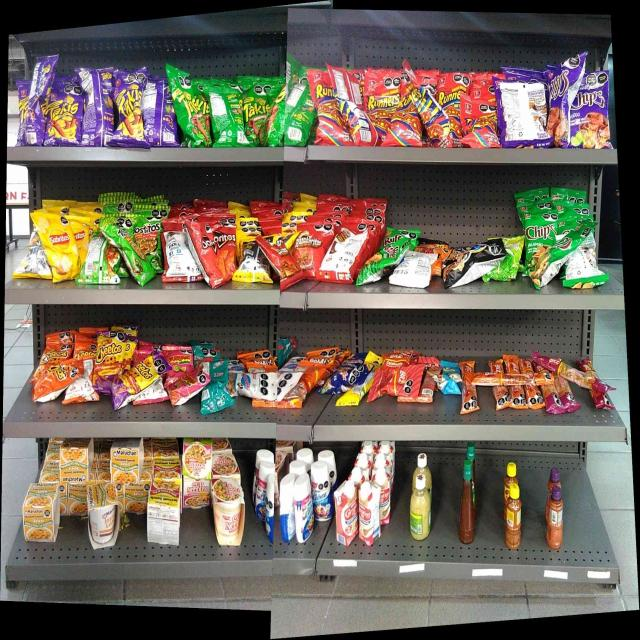bitzEnchilado90: (374, 367, 420, 395)
bitzEnchilado95: (492, 389, 544, 410), (466, 374, 554, 386), (488, 355, 532, 371), (461, 391, 479, 412)
bitzHabanero: (582, 374, 614, 400), (547, 388, 578, 412)
bokadosCacahuates: (337, 368, 366, 384), (319, 376, 336, 396)
botaneraChilito: (506, 483, 520, 547)
cheetosFlaminHot: (96, 333, 123, 392), (125, 362, 158, 389)
cheetosOriginal: (33, 368, 69, 394), (44, 339, 73, 363)
chipsJalapeno: (576, 74, 608, 150), (548, 71, 573, 146), (524, 214, 549, 285)
churrumais: (165, 348, 192, 378), (167, 381, 196, 404)
delPrimoSalsa: (410, 476, 431, 540)
doritosNacho: (216, 216, 235, 280), (194, 224, 213, 286)
hotNutsOriginal: (417, 239, 447, 260)
leoCacahuates: (230, 372, 278, 398)
leoMix: (304, 351, 336, 372)
maruchanPollo: (24, 483, 56, 542), (88, 488, 118, 546), (59, 447, 88, 483), (111, 448, 139, 485)
maruchanRes: (149, 480, 179, 546)
nestleCarnation: (358, 486, 381, 544), (335, 484, 357, 542)
nestleLechera: (293, 476, 311, 540), (313, 464, 332, 522), (255, 466, 270, 517), (280, 479, 292, 540)
nissinCamaron: (182, 439, 210, 480)
nissinRes: (212, 478, 244, 547)
popKarameladas: (449, 242, 500, 279)
productoAtras: (500, 82, 546, 149), (83, 68, 112, 145), (328, 232, 362, 282), (210, 90, 240, 144), (31, 59, 48, 143), (147, 85, 170, 147), (237, 242, 270, 284), (286, 87, 310, 142), (81, 233, 106, 283), (568, 252, 603, 286), (344, 101, 363, 144), (502, 239, 522, 279), (404, 262, 435, 285), (29, 232, 43, 278), (434, 374, 457, 394)
rancheritos: (299, 226, 325, 270), (273, 246, 297, 286)
rufflesQueso: (364, 242, 401, 266)
runners: (365, 74, 402, 138), (312, 73, 343, 144), (469, 99, 497, 147), (422, 108, 449, 146), (404, 87, 418, 145), (438, 78, 467, 104)
sabritasOriginal: (46, 216, 78, 278)
salsaBufalo: (460, 462, 474, 542)
tajinDulce: (547, 488, 563, 549)
takisFuego: (113, 87, 144, 145), (50, 88, 81, 145), (17, 84, 28, 119)
takisOriginal: (172, 80, 208, 147), (243, 88, 271, 146)
tostitos: (134, 210, 162, 276), (109, 222, 132, 256)
